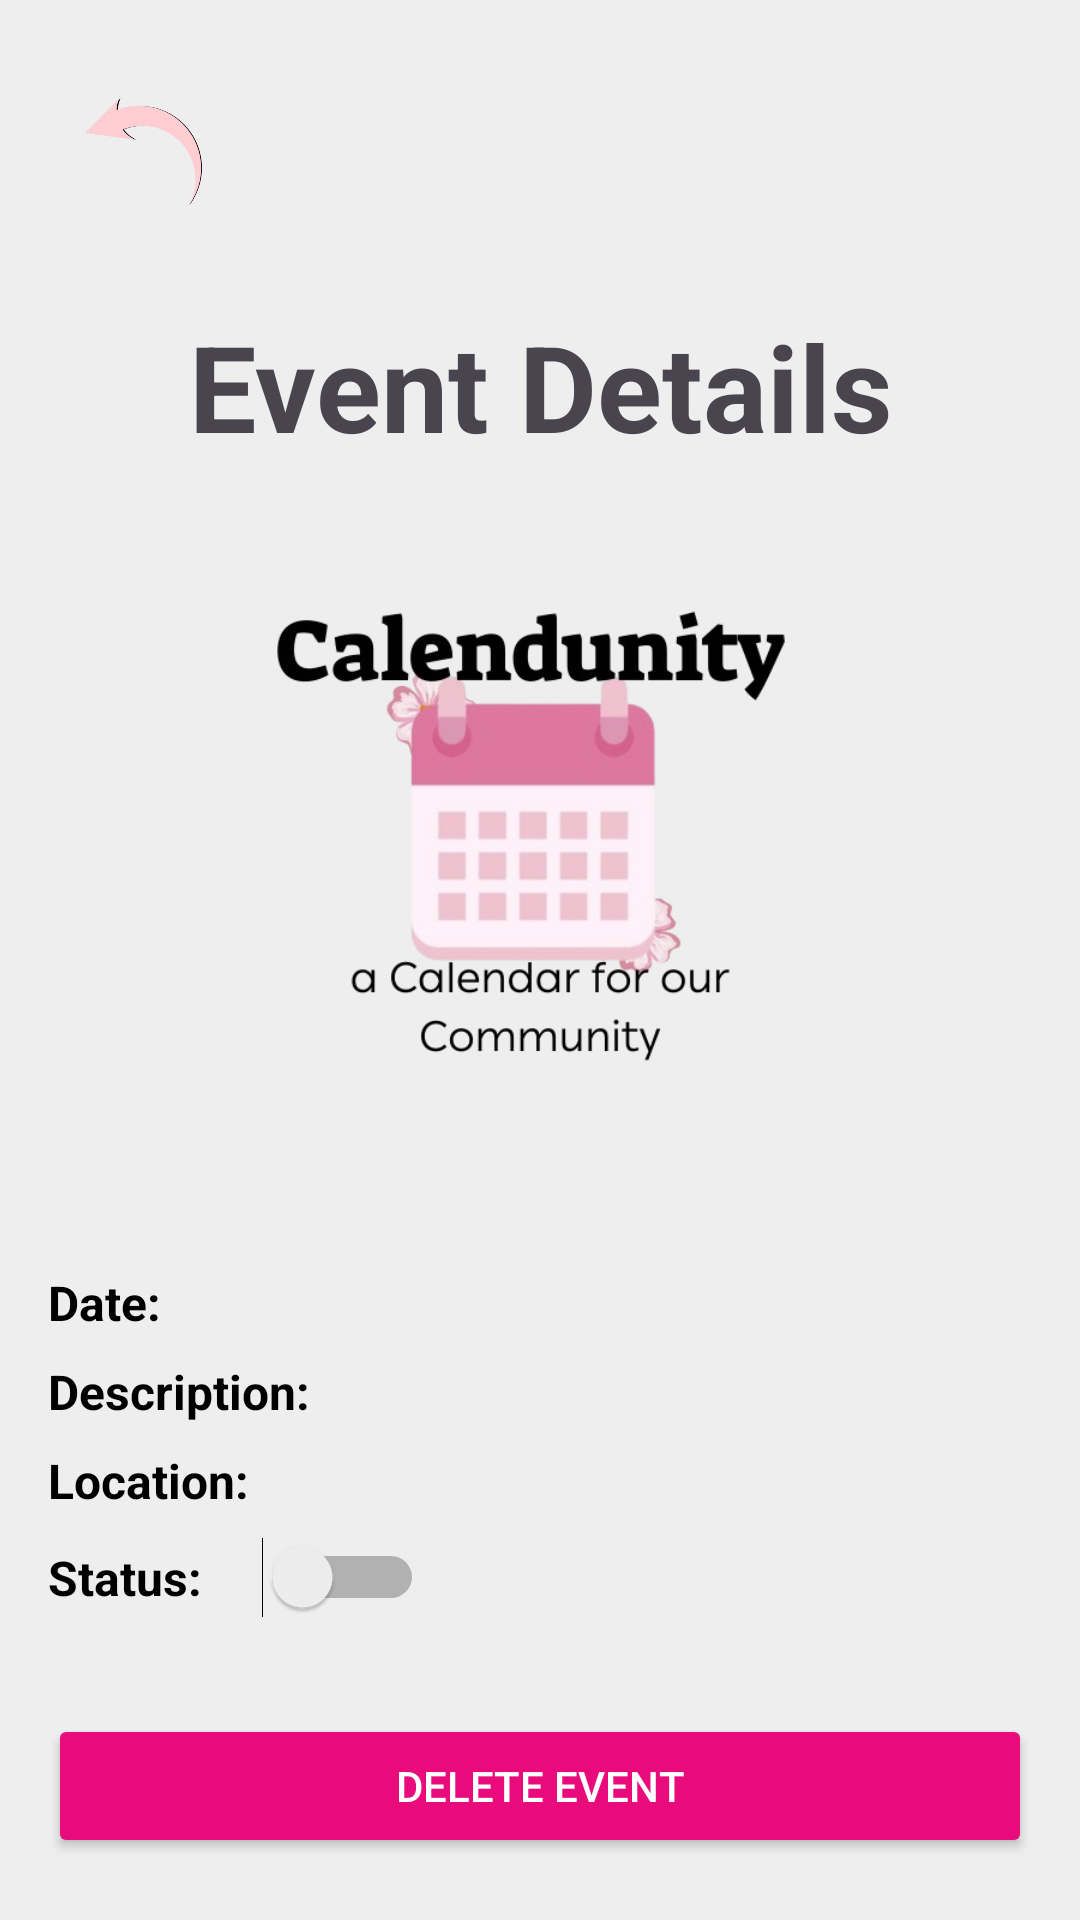

Icons on this 1080 x 1920 Android screen, each with the point to tap as point (x, y):
Back Button: point (144, 151)
